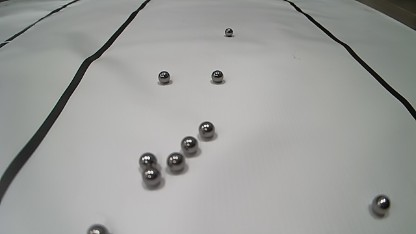ironball: (371, 194, 390, 216), (166, 152, 186, 172), (142, 167, 161, 186), (181, 136, 198, 154), (139, 152, 157, 169), (198, 121, 215, 138), (87, 224, 108, 234), (211, 70, 223, 83), (158, 71, 170, 83), (224, 27, 233, 37)
